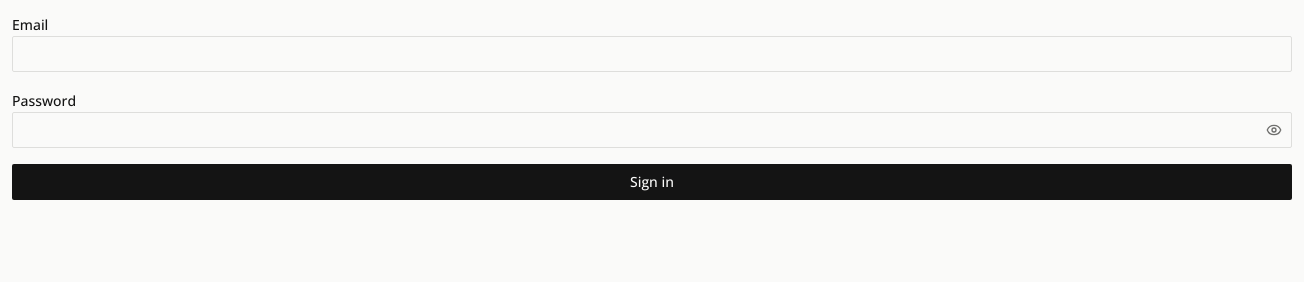
it: SignInForm — error + loading contract › a thrown rejection shows the generic error and resets the button
Type "user@example.com" into the field labelled "Email" at (652, 54), box [12,36,1292,72]
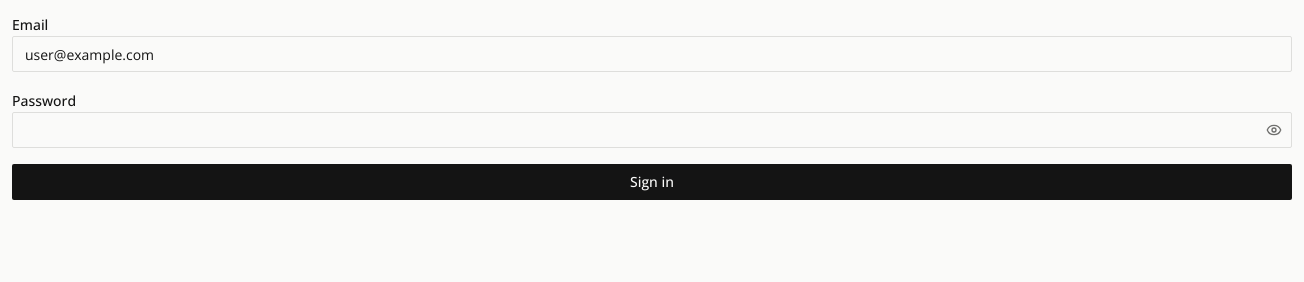
Type "secret" into the password field labelled "Password" at (652, 130), box [12,112,1292,148]
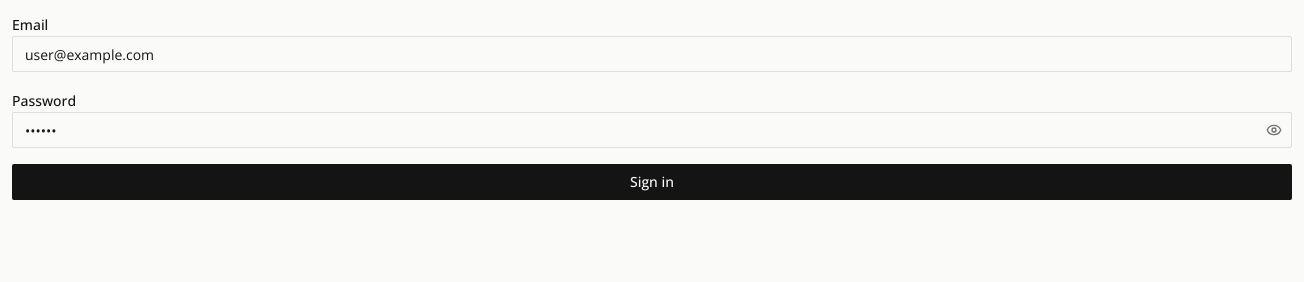
Click the button "Sign in" at (652, 182), box [12,164,1292,200]
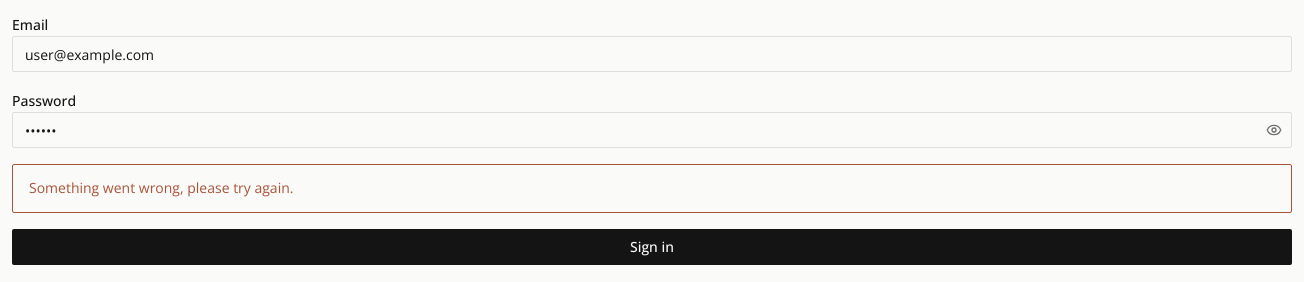
Expected: the button "Sign in" is enabled, [12,229,1292,265]
Result: the text "Something went wrong, please try again." is shown at [29,178,294,197]
